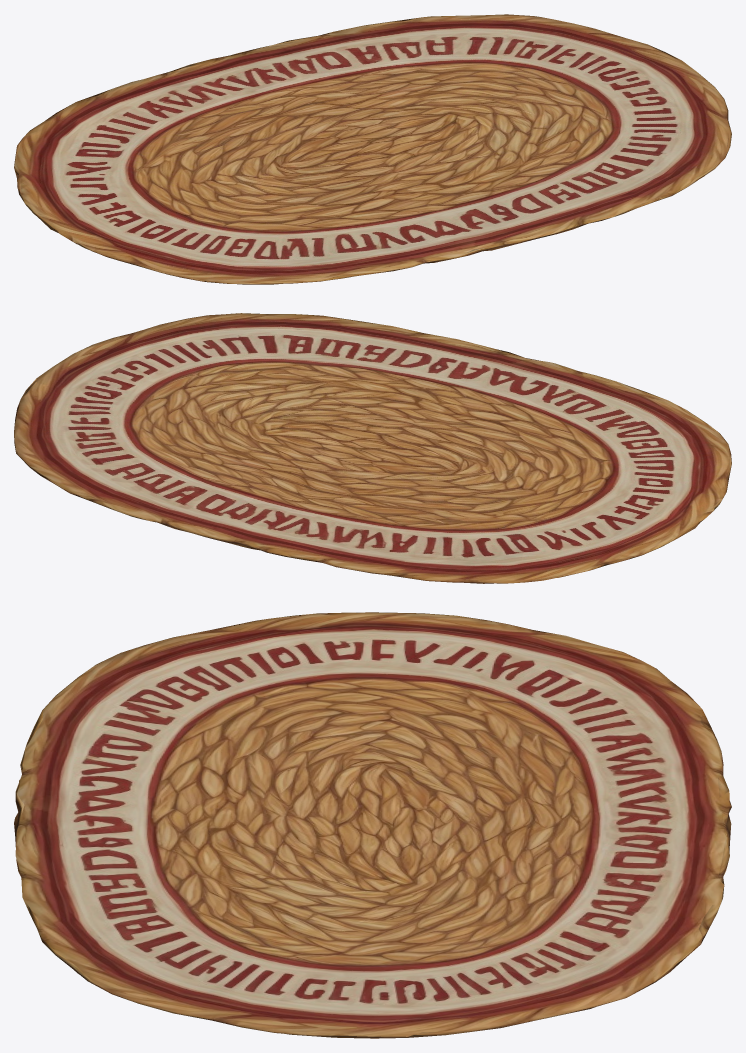
File: SM_Env_WelcomeRug.fbx
3 views of the same model, one above another, from view 1: azimuth 30°, elevation 25°; view 2: azimuth 150°, elevation 25°; view 3: azimuth 270°, elevation 25° (orthographic). The views are drawn at different scales.
Parts seen in each view (by area): view 1: SM_Env_WelcomeRug; view 2: SM_Env_WelcomeRug; view 3: SM_Env_WelcomeRug.
Part boxes in pixels (x1,y1,x2,y2): SM_Env_WelcomeRug: (14,14,731,284); SM_Env_WelcomeRug: (14,313,731,583); SM_Env_WelcomeRug: (14,612,731,1038).
Bounding box in the file's own units: 1.4 × 0.03 × 1.
